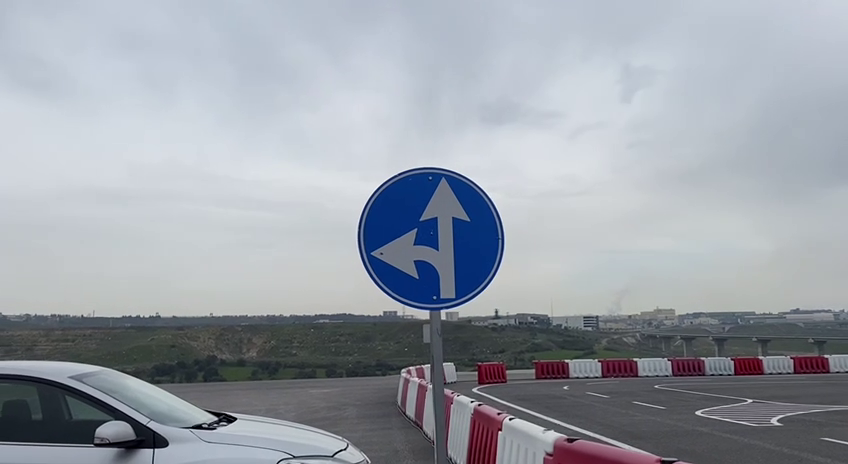forwardAndLeft: (355, 164, 510, 314)
